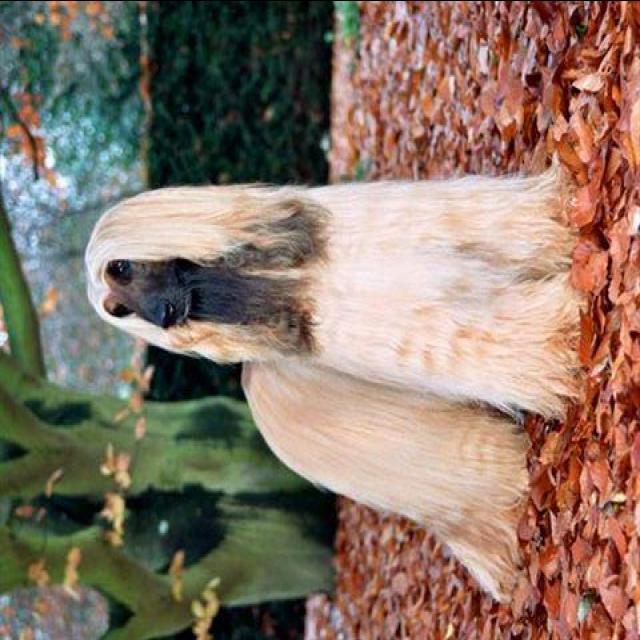afghan_hound: (82, 163, 588, 608)
